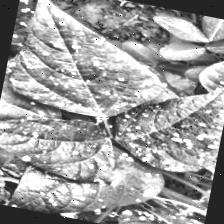Bean Rust: (7, 0, 174, 128), (7, 120, 169, 224), (109, 67, 224, 177), (0, 100, 124, 183), (0, 55, 48, 146), (195, 25, 224, 113), (116, 197, 206, 224), (9, 0, 44, 58)
